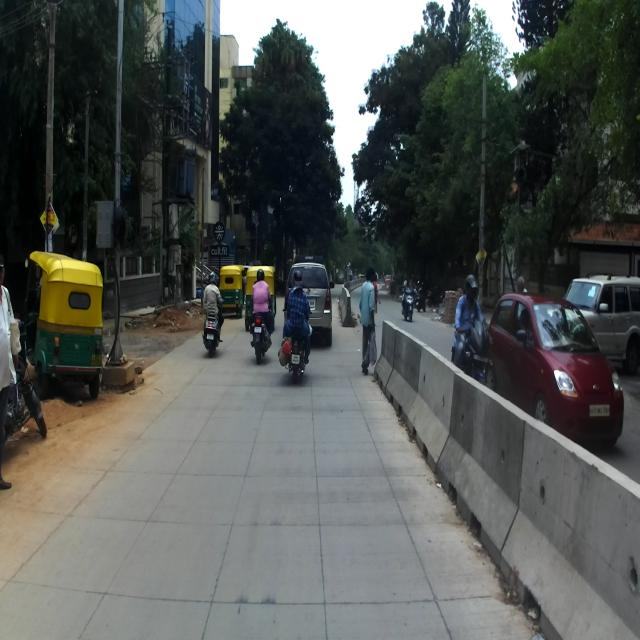auto ahead at: (22, 246, 106, 404)
motorcycle ahead at: (278, 265, 317, 381), (247, 265, 276, 361), (200, 266, 226, 354)
person ahead at: (354, 264, 380, 376)
